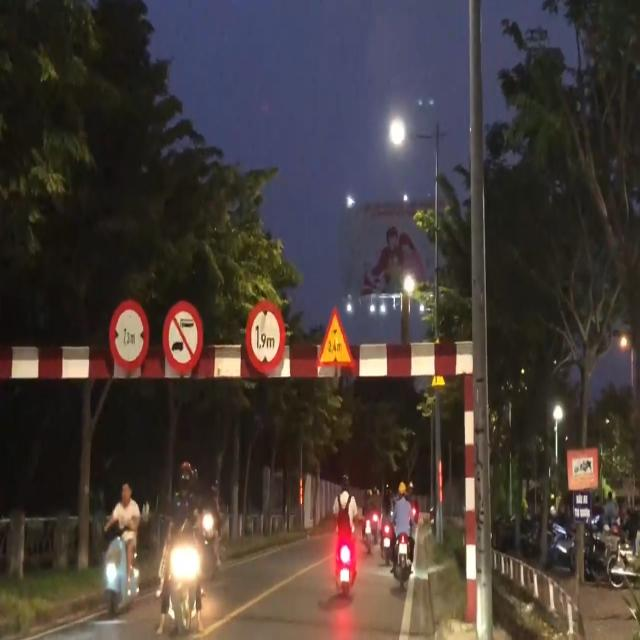Bien bao cam xe oto khach va xe oto tai: (163, 298, 206, 377)
Bien bao chieu cao tinh khong thuc te: (311, 302, 359, 379)
Bien bao han che chieu cao: (242, 296, 287, 383)
